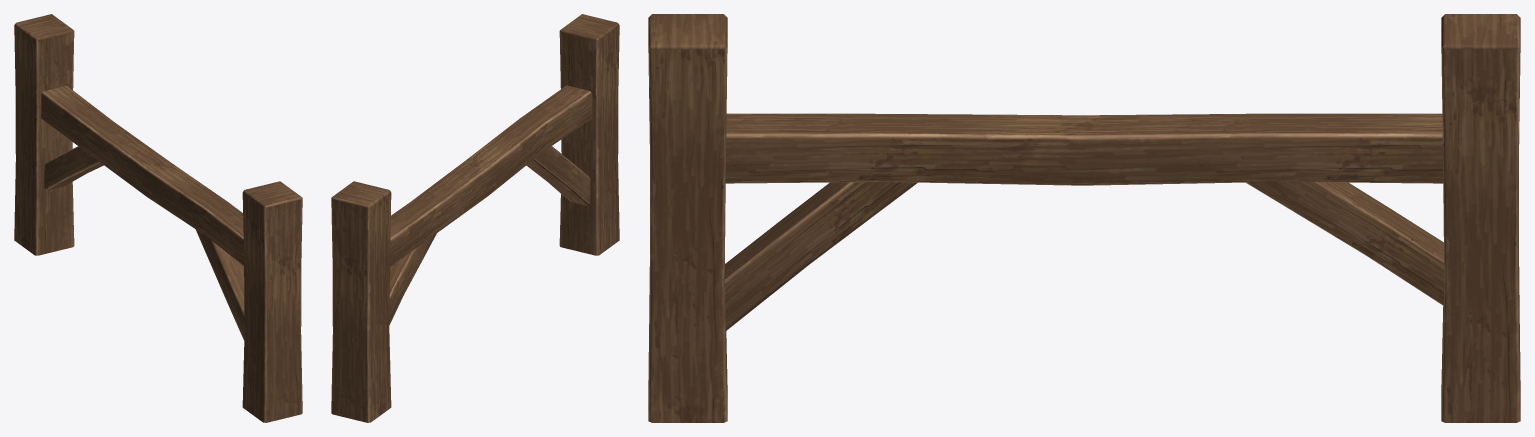
File: SM_Fence_01.fbx
3 views of the same model, side by side, from view 1: azimuth 30°, elevation 25°; view 2: azimuth 150°, elevation 25°; view 3: azimuth 270°, elevation 25° (orthographic). The views are drawn at different scales.
Parts seen in each view (by area): view 1: SM_Fence_01_LOD0; view 2: SM_Fence_01_LOD0; view 3: SM_Fence_01_LOD0.
Part boxes in pixels (<box>): SM_Fence_01_LOD0: <box>14,14,302,422</box>; SM_Fence_01_LOD0: <box>331,14,619,422</box>; SM_Fence_01_LOD0: <box>648,14,1520,422</box>.
Bounding box in the file's own units: 20 × 220 × 105.
1 material, 1 textured.
